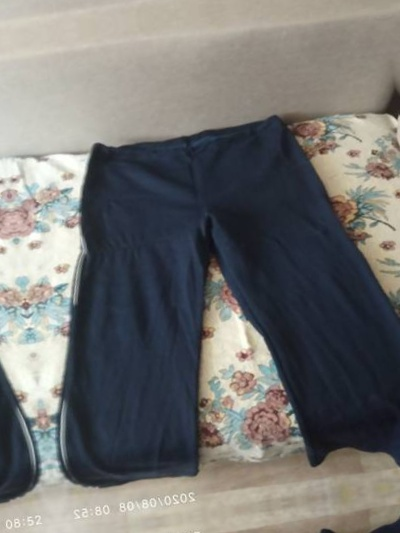Pants: (0, 69, 400, 509), (0, 126, 54, 533), (66, 509, 400, 533)
